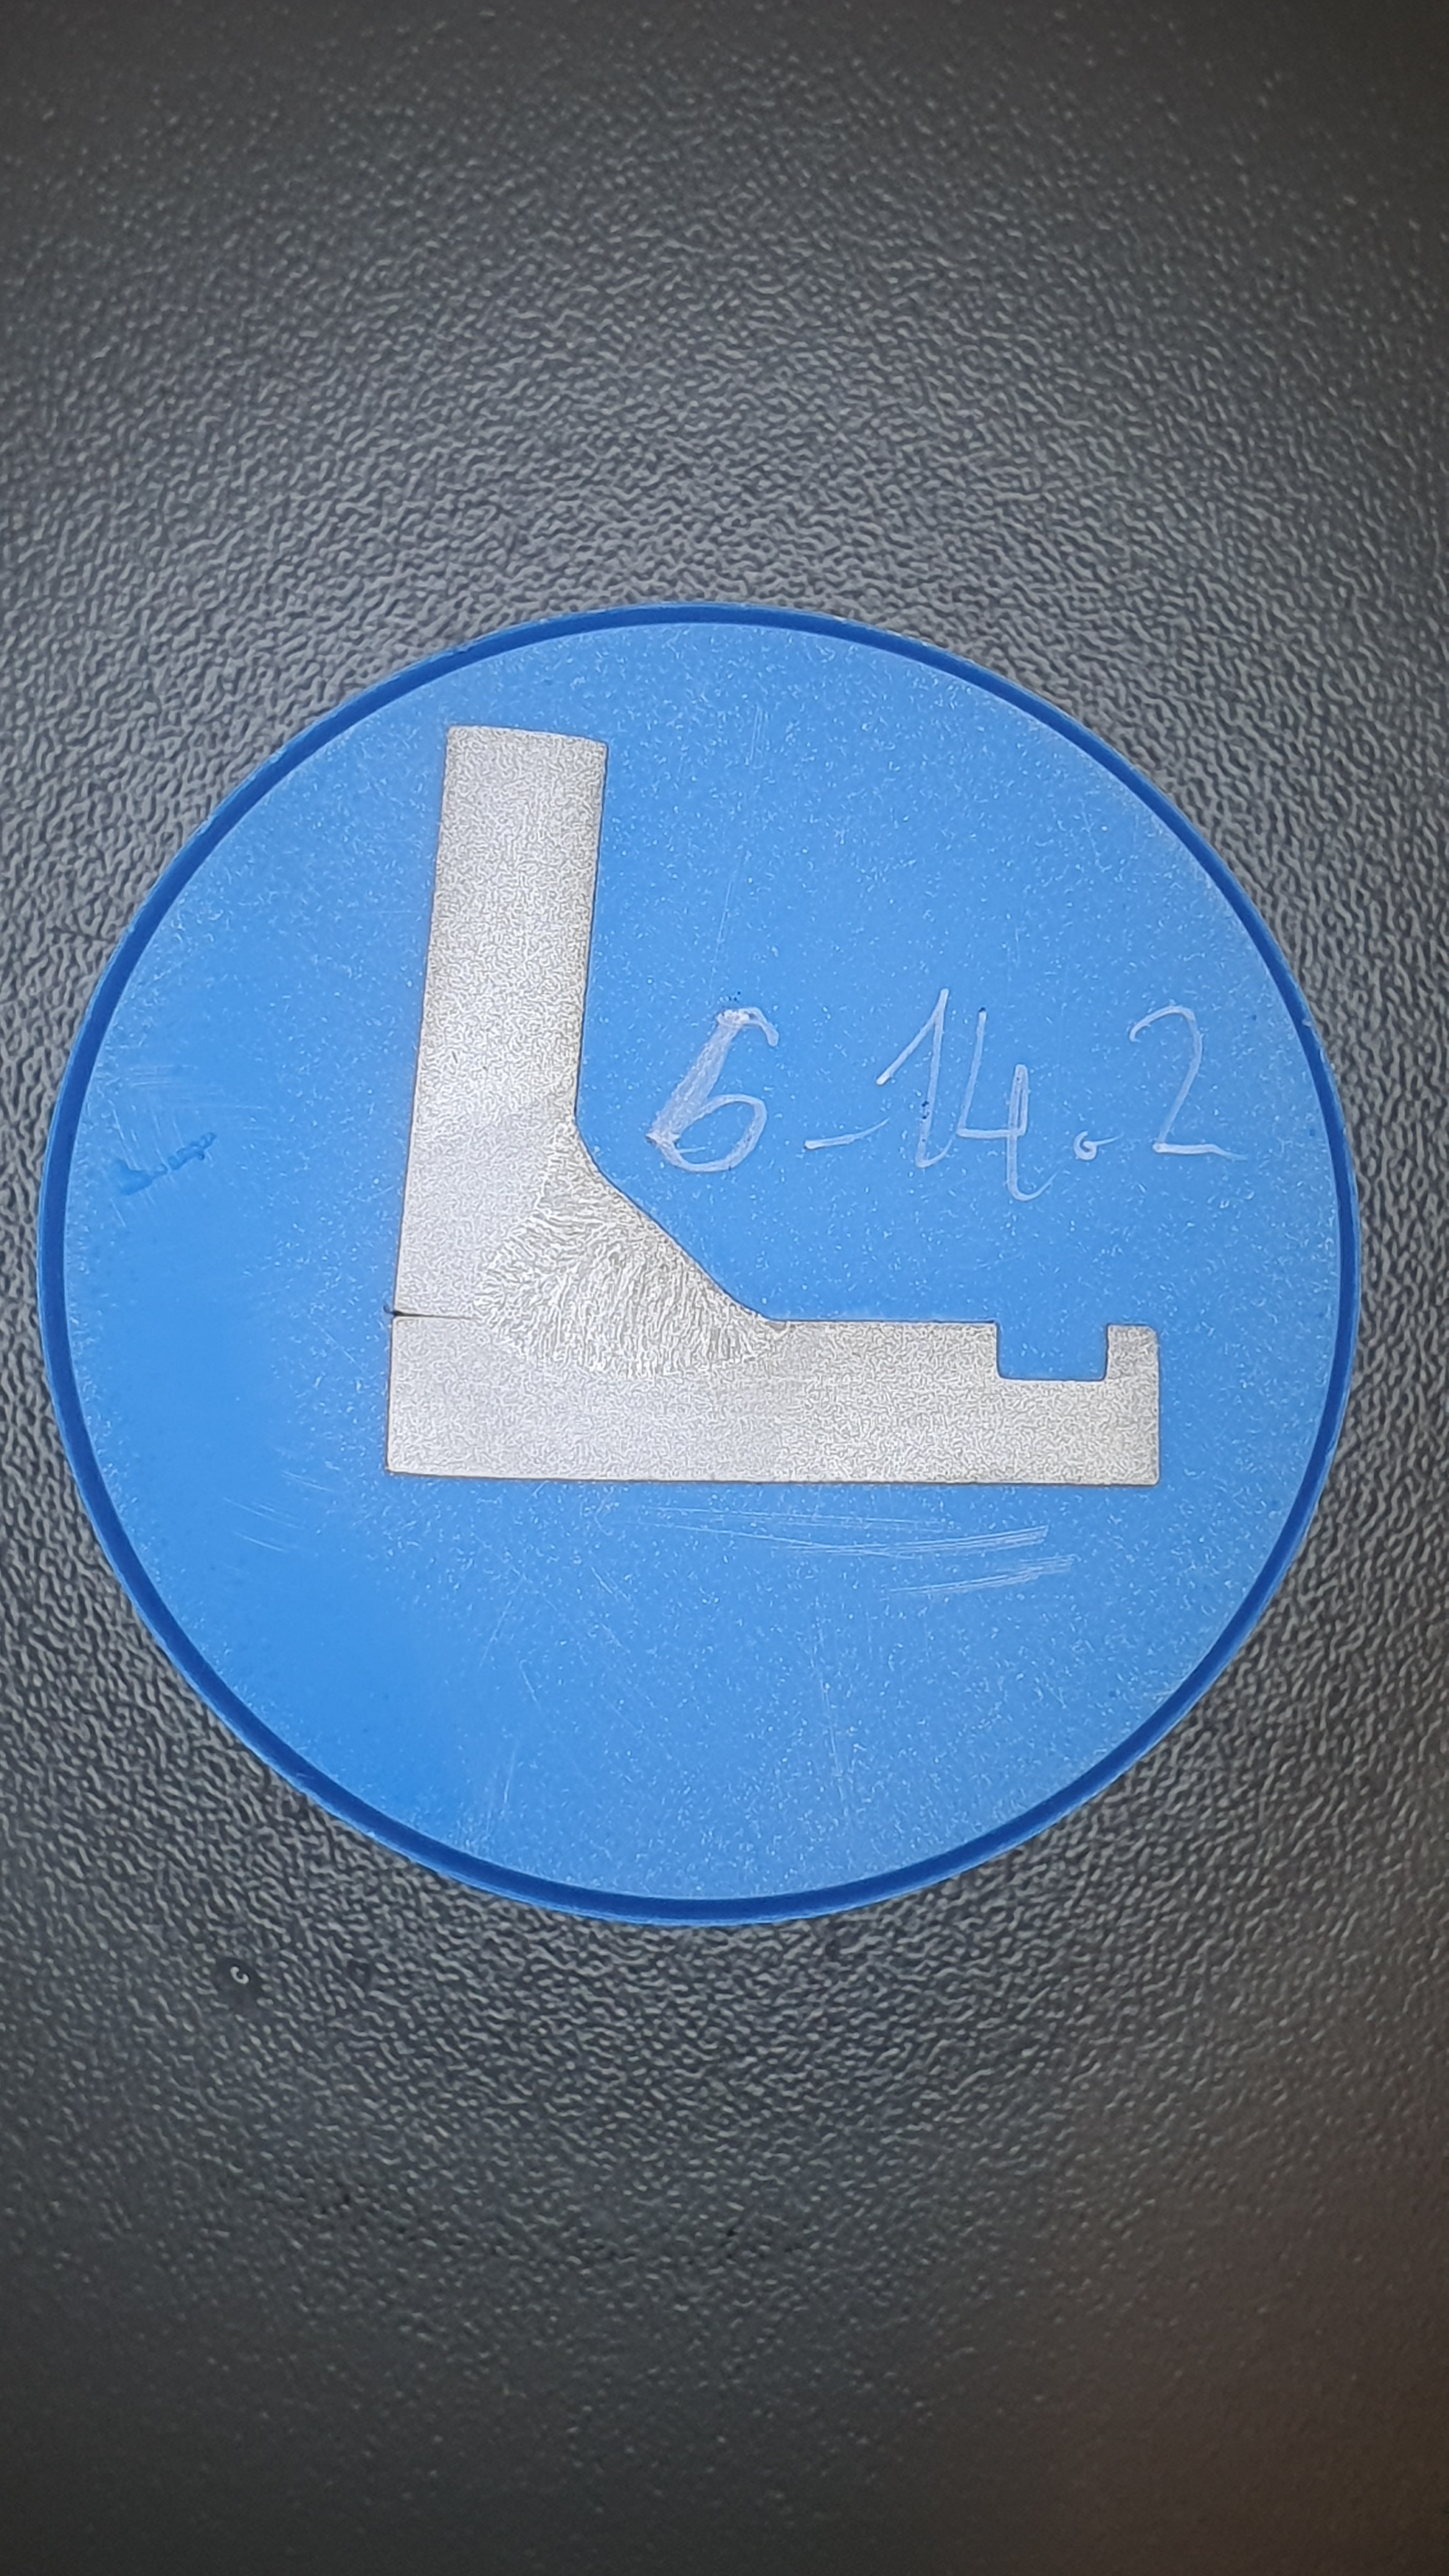Fusion: (474, 1113, 791, 1376)
Hintergrund: (64, 623, 1339, 1895)
Metall: (387, 725, 1159, 1486)
Nebenbereich: (395, 1074, 828, 1465)
